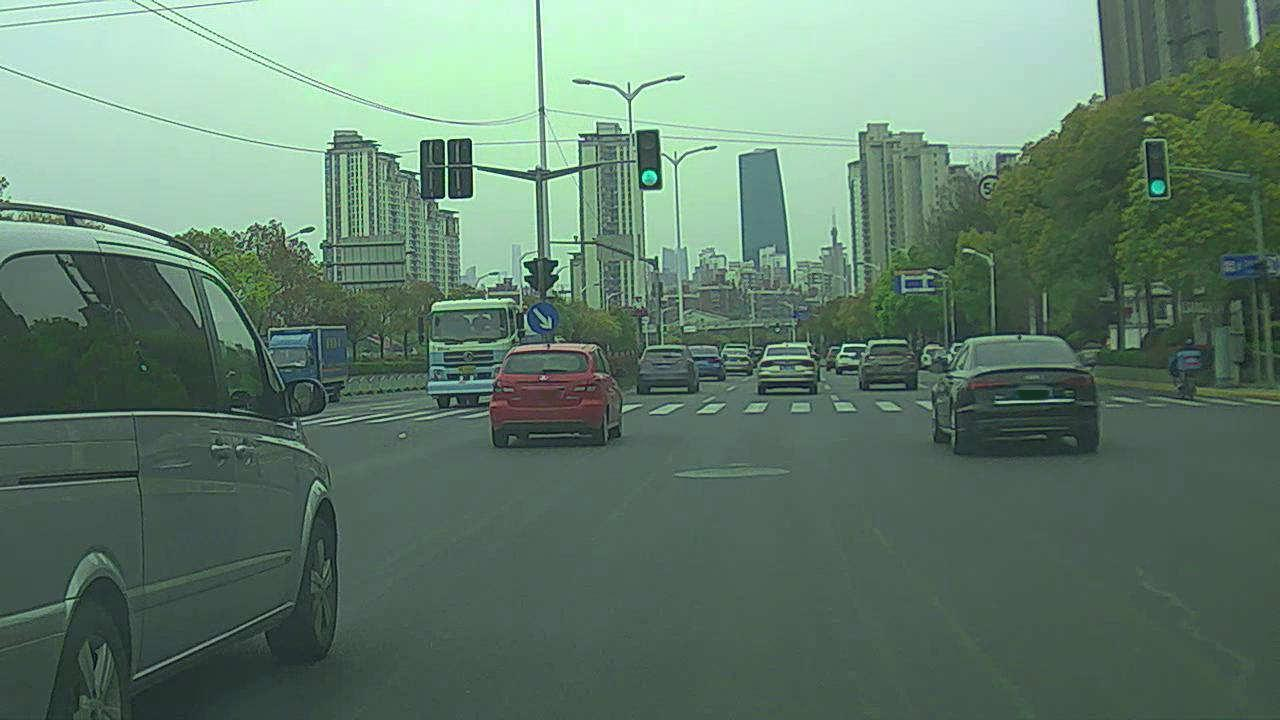traffic_light: (633, 127, 665, 191), (1144, 138, 1174, 201)
